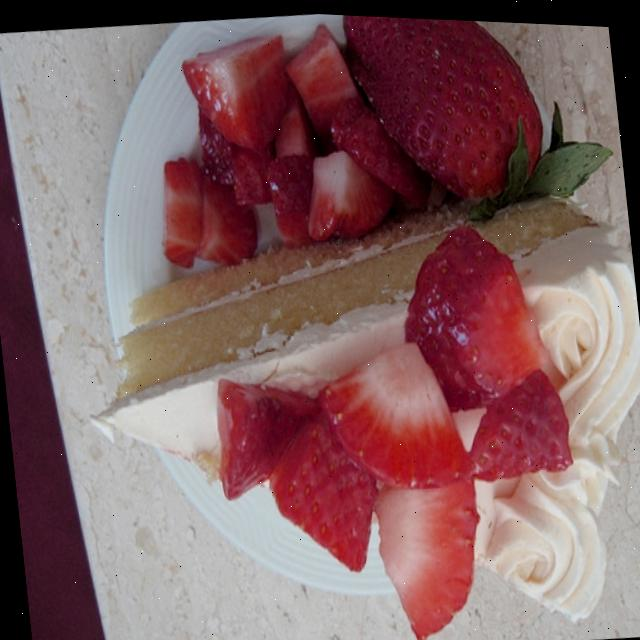蛋糕甜品: (59, 2, 640, 640)
